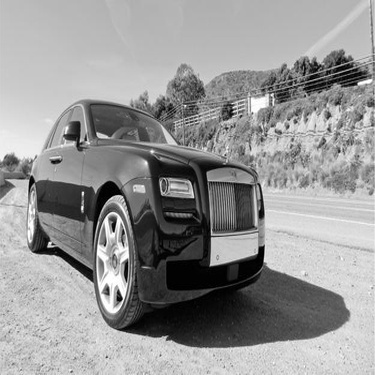car: (16, 89, 271, 335)
